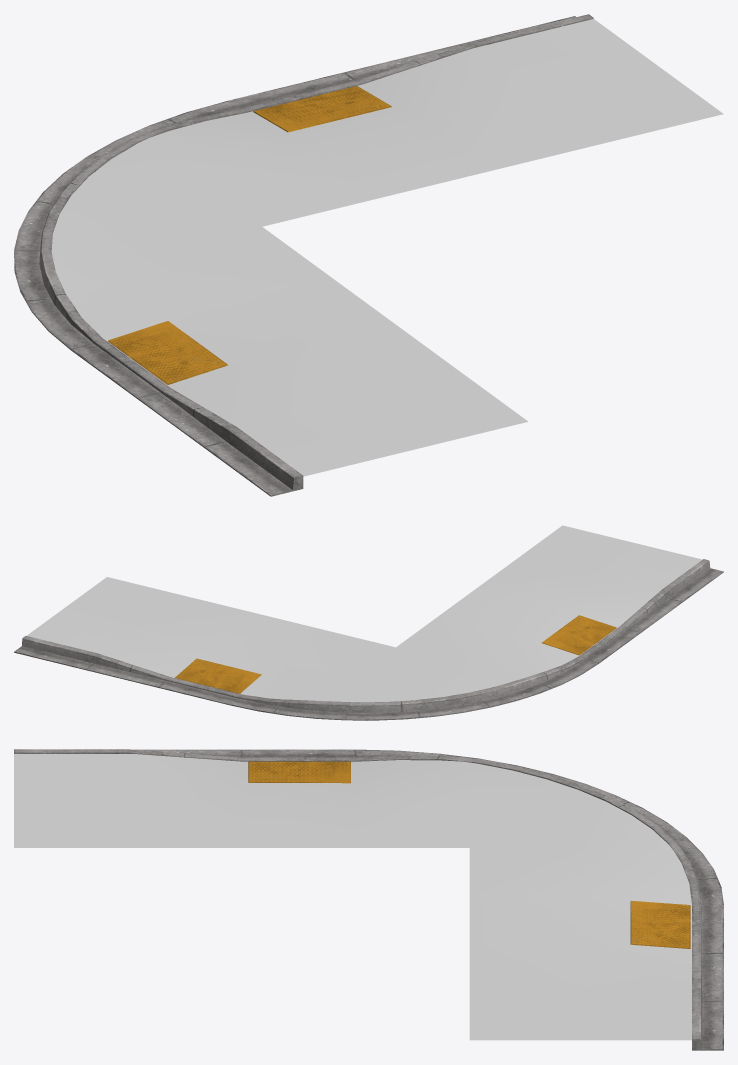
Rendered from MB_Sidewalk_Angle_01.fbx.
3 views of the same model, one above another, from view 1: azimuth 30°, elevation 25°; view 2: azimuth 150°, elevation 25°; view 3: azimuth 270°, elevation 25° (orthographic). The views are drawn at different scales.
Visible parts, largest first — view 1: MB_Sidewalk_Angle_01_LOD0; view 2: MB_Sidewalk_Angle_01_LOD0; view 3: MB_Sidewalk_Angle_01_LOD0.
Boxes of the visible parts, left/top/right/bottom form: MB_Sidewalk_Angle_01_LOD0: left=14, top=14, right=723, bottom=496; MB_Sidewalk_Angle_01_LOD0: left=14, top=525, right=723, bottom=720; MB_Sidewalk_Angle_01_LOD0: left=14, top=749, right=723, bottom=1050.
Size of what is drawn, in the model's own units: 624 by 18.92 by 623.
